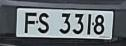1: (84, 12, 94, 37)
3: (59, 12, 72, 36), (72, 12, 85, 36)
8: (93, 12, 106, 38)
F: (23, 10, 38, 37)
S: (37, 11, 53, 36)
